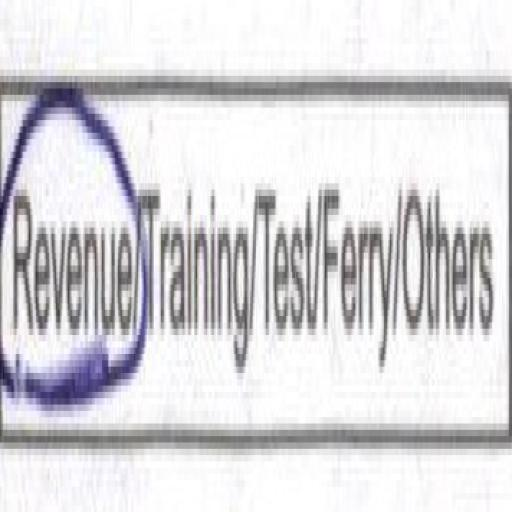check: (2, 46, 137, 454)
